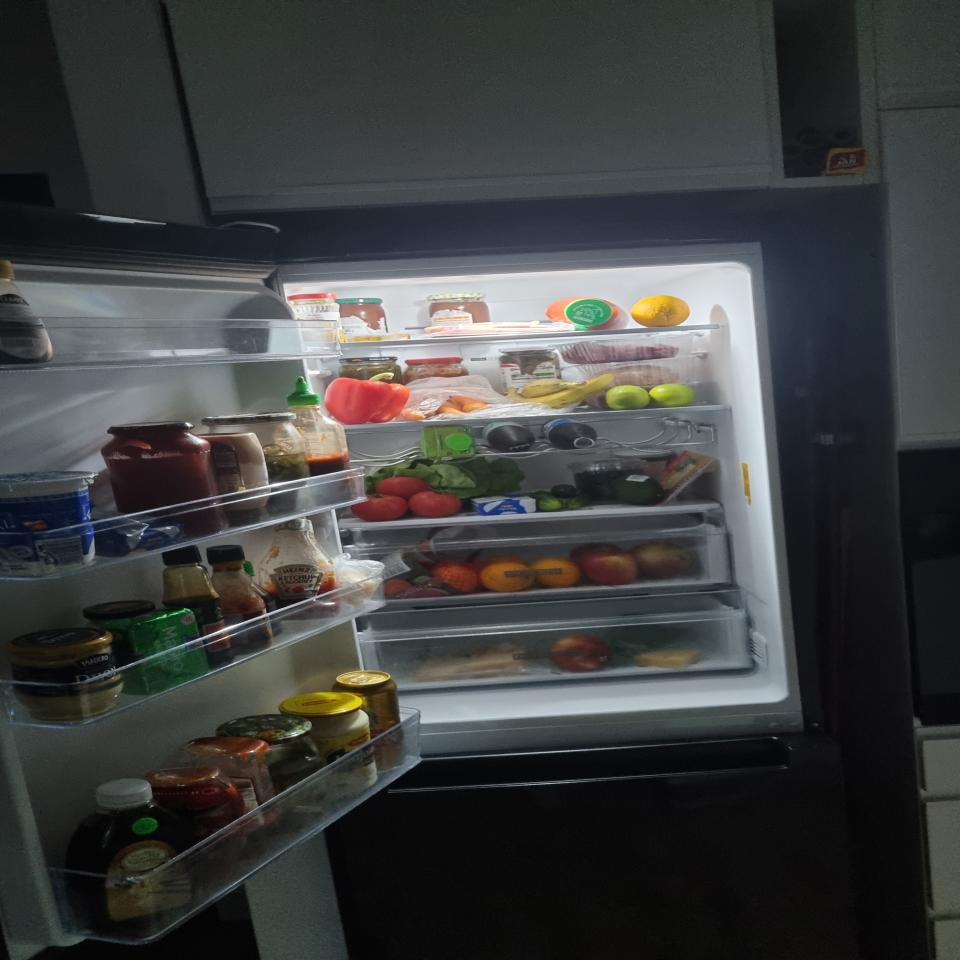Aguacate: (612, 474, 664, 506)
Carne pollo: (589, 365, 680, 388)
Lechuga/Endivia: (364, 451, 526, 499)
Mantequilla: (105, 607, 210, 695), (90, 508, 185, 558), (471, 493, 537, 516)
Manzana: (629, 541, 694, 578), (548, 634, 612, 671), (582, 549, 638, 585), (568, 542, 624, 563)
Pepino: (532, 484, 592, 510)
Plátano: (505, 374, 614, 409)
Queso: (413, 640, 525, 682), (652, 450, 714, 506), (632, 648, 702, 669)
Tomate: (408, 487, 461, 518), (351, 494, 407, 522), (378, 476, 428, 500)
Yogur: (0, 471, 99, 576)
Zanahoria: (399, 389, 487, 421)
